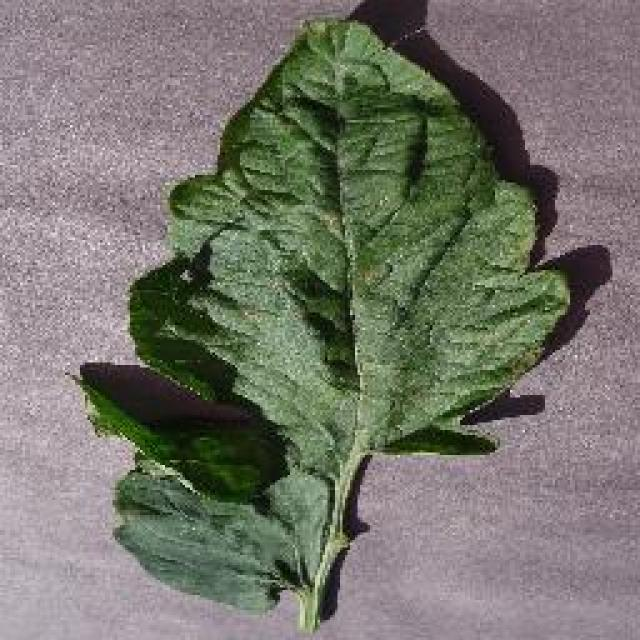Tom_Target_Spot: (204, 202, 422, 410)
